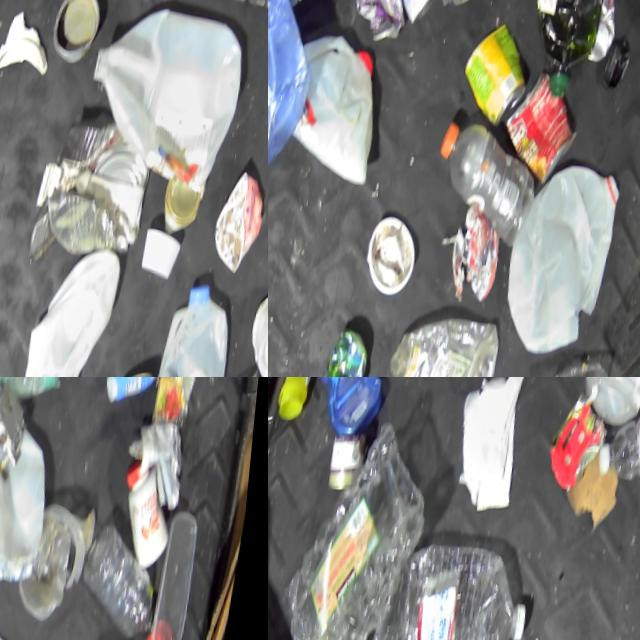can: (46, 105, 166, 256), (501, 62, 589, 181), (459, 17, 537, 125), (546, 384, 614, 490), (51, 0, 108, 64), (323, 321, 380, 377), (165, 173, 211, 233), (350, 0, 414, 41), (328, 431, 371, 490), (591, 0, 625, 58)
milk_jug: (80, 0, 256, 189), (503, 151, 629, 356), (286, 28, 392, 183), (20, 237, 134, 377), (149, 269, 251, 377), (0, 404, 66, 556), (578, 377, 640, 424)
non_white_jug: (268, 0, 336, 183), (527, 0, 612, 69)
plastic_bottle: (366, 532, 540, 640), (433, 115, 548, 244), (83, 514, 175, 633), (389, 306, 509, 377), (596, 384, 640, 481)
